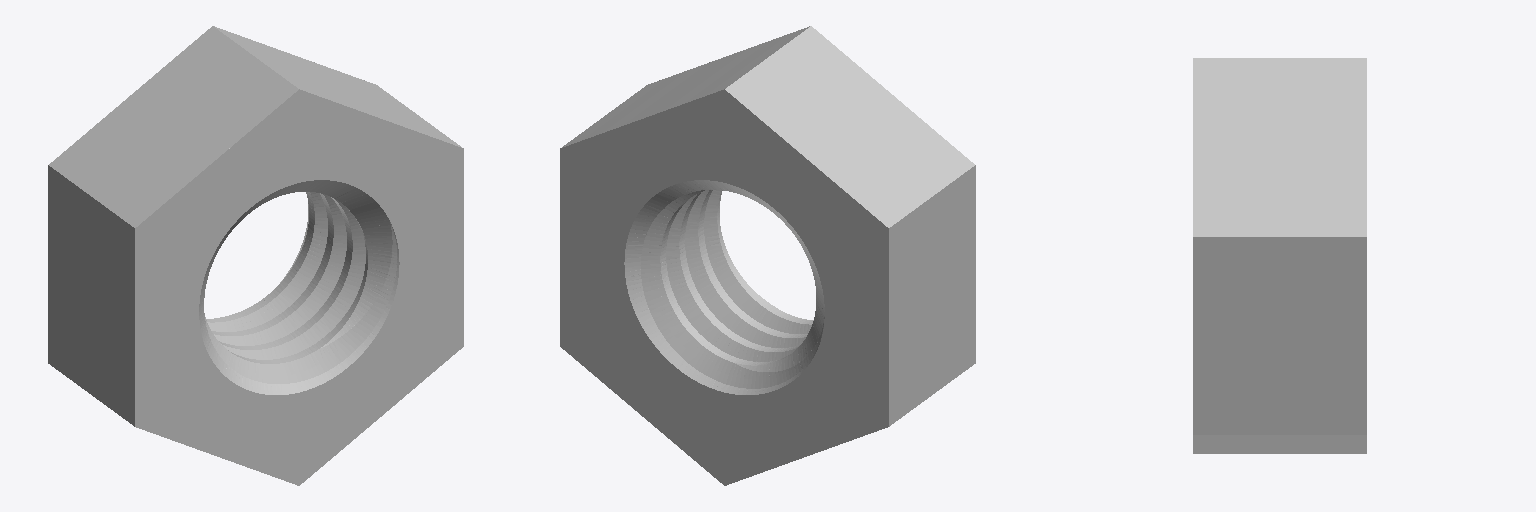
File: factory_nut_m4_loose_subdiv_3x.obj
3 views of the same model, side by side, from view 1: azimuth 30°, elevation 25°; view 2: azimuth 150°, elevation 25°; view 3: azimuth 270°, elevation 25° (orthographic).
Parts seen in each view (by area): view 1: mesh5, mesh9, mesh10, mesh1, mesh3, mesh8, mesh2; view 2: mesh6, mesh9, mesh10, mesh0, mesh4, mesh8, mesh2; view 3: mesh7, mesh8, mesh12.
Part boxes in pixels (x1,y1,x2,y2): mesh5: (135, 89, 463, 485); mesh9: (49, 26, 298, 227); mesh10: (48, 165, 134, 426); mesh1: (205, 192, 396, 383); mesh3: (199, 180, 399, 394); mesh8: (214, 26, 461, 147); mesh2: (206, 192, 367, 363); mesh6: (560, 89, 888, 485); mesh9: (725, 26, 974, 227); mesh10: (889, 165, 975, 426); mesh0: (641, 190, 824, 388); mesh4: (624, 180, 824, 394); mesh8: (562, 26, 809, 147); mesh2: (660, 190, 813, 365); mesh7: (1193, 237, 1366, 434); mesh8: (1193, 58, 1366, 236); mesh12: (1193, 435, 1366, 453).
Bounding box in the file's own units: 0.007 × 0.0081 × 0.0032.